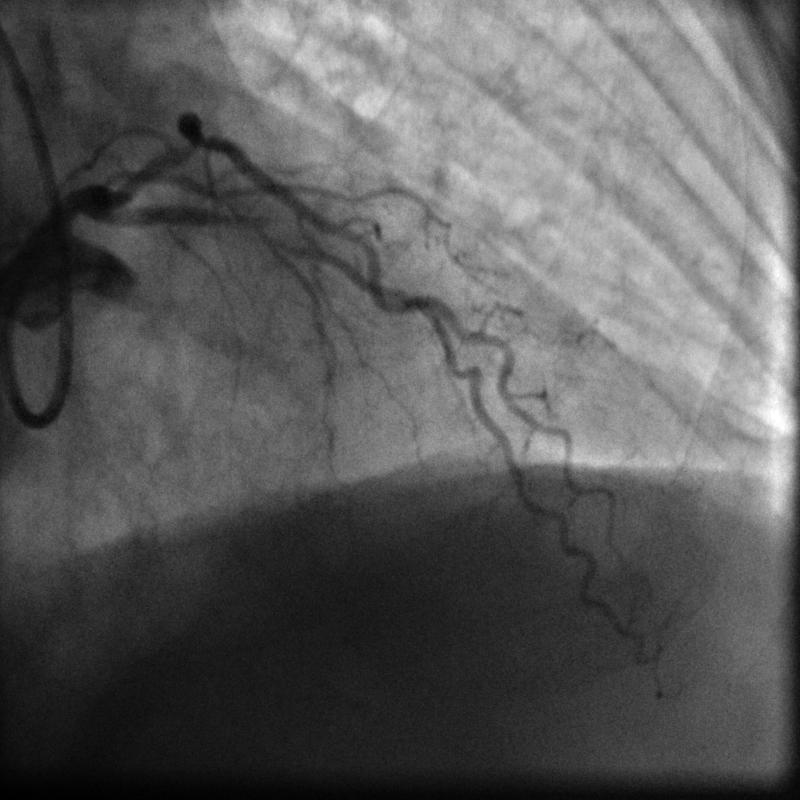Stenosis: (246, 212, 315, 265)
